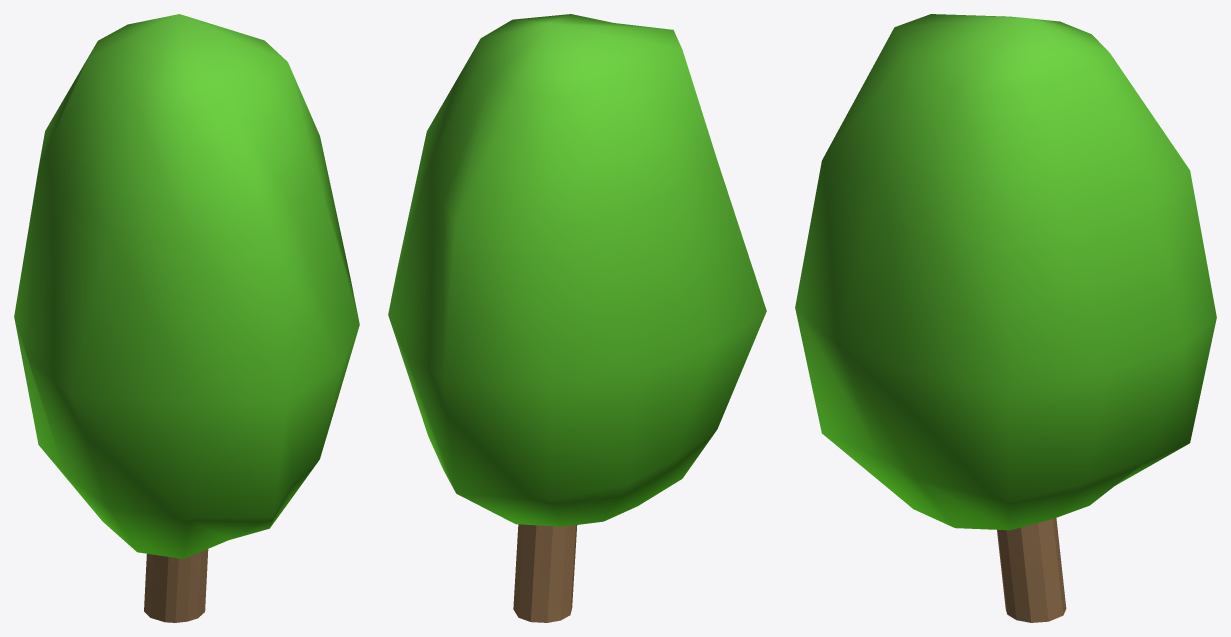
Rendered from tree_one.FBX.
3 renders of one model, left to right at view 1: azimuth 30°, elevation 25°; view 2: azimuth 150°, elevation 25°; view 3: azimuth 270°, elevation 25°, orthographic. The views are drawn at different scales.
Parts seen in each view (by area): view 1: Sphere001; view 2: Sphere001; view 3: Sphere001.
Boxes of the visible parts, x1=… form: Sphere001: x1=14, y1=14, x2=359, y2=622; Sphere001: x1=388, y1=14, x2=766, y2=622; Sphere001: x1=795, y1=14, x2=1216, y2=622.
Bounding box in the file's own units: 7.46 × 12.98 × 8.38.
